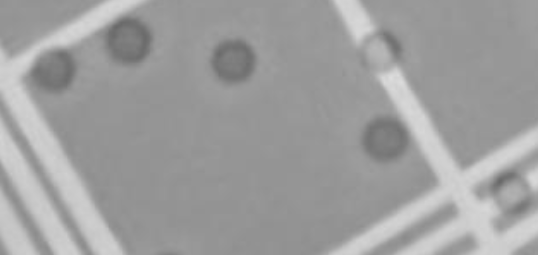cell: (351, 107, 413, 166), (204, 34, 261, 88), (351, 23, 406, 77), (26, 43, 80, 97), (100, 14, 153, 67), (484, 165, 537, 217)
